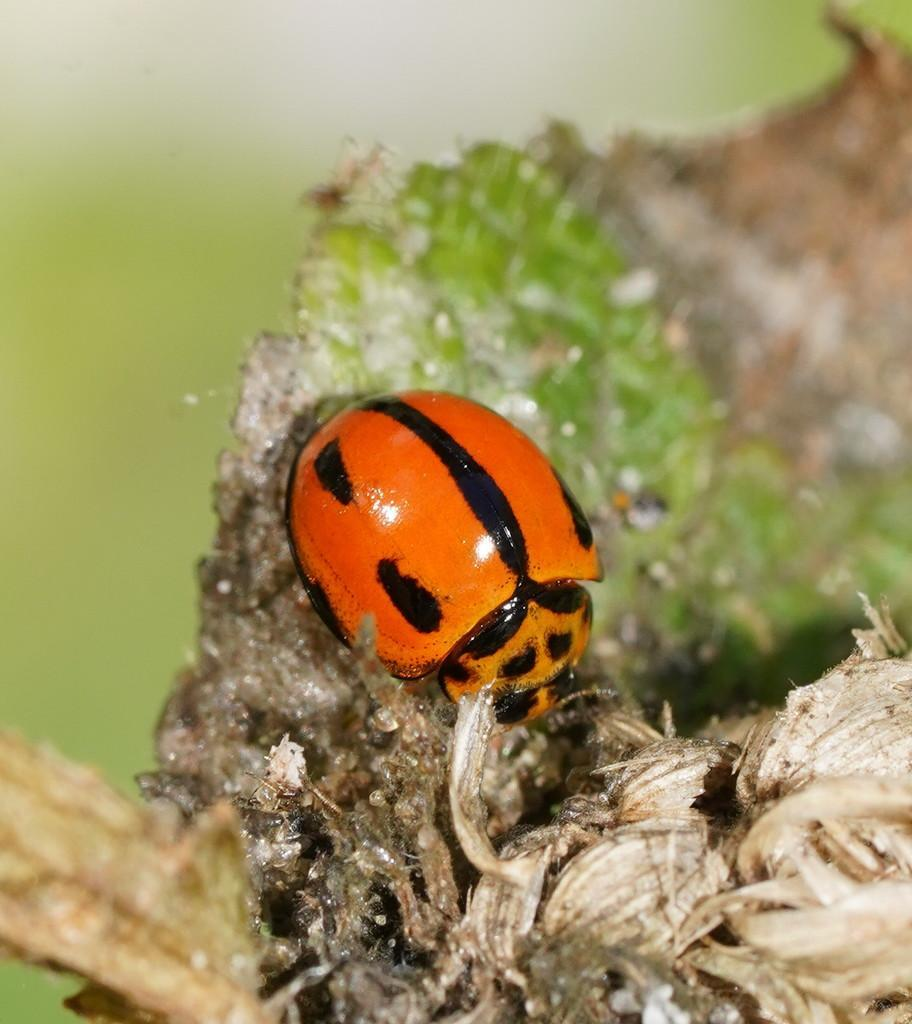ladybug: (281, 389, 626, 744)
